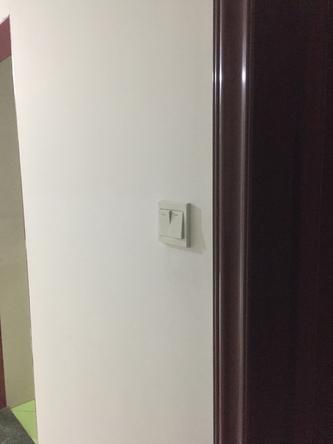switch: (168, 207, 188, 242), (156, 206, 173, 239)
